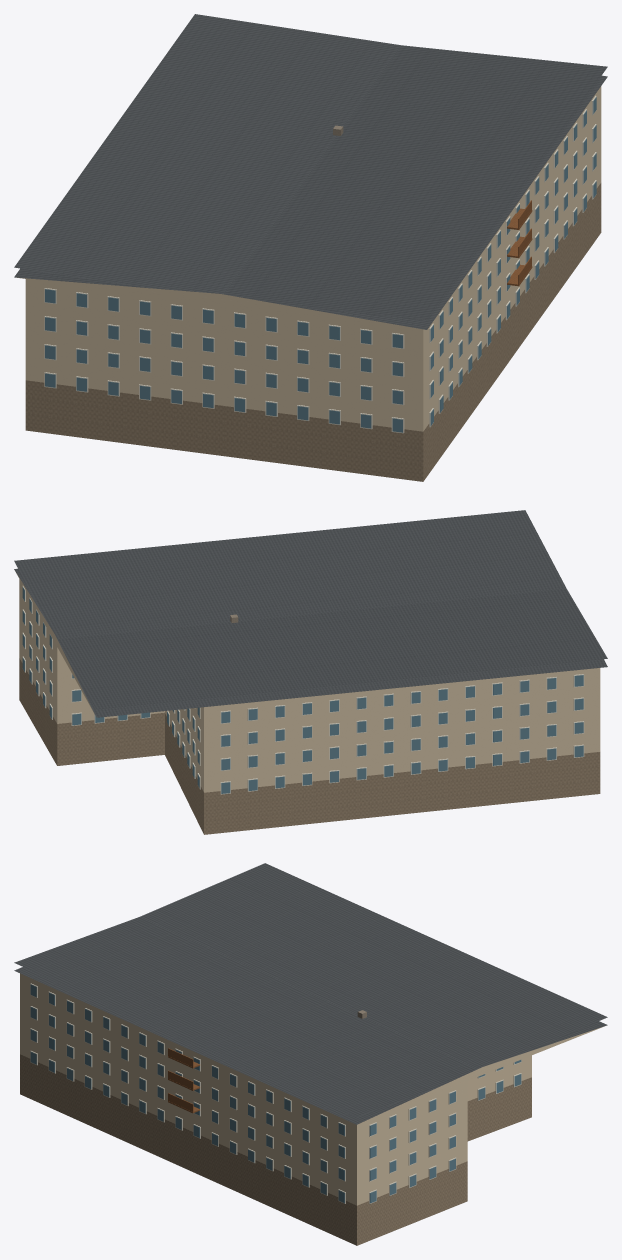
The model's file is core_0022.gltf.
3 renders of one model, top to bottom at view 1: azimuth 30°, elevation 25°; view 2: azimuth 150°, elevation 25°; view 3: azimuth 270°, elevation 25°, orthographic. The views are drawn at different scales.
Parts seen in each view (by area): view 1: core_0022; view 2: core_0022; view 3: core_0022.
Part boxes in pixels (x1,y1,x2,y2): core_0022: (14, 14, 607, 481); core_0022: (14, 510, 607, 834); core_0022: (14, 863, 607, 1245).
Size of the model in its own units: 69.16 by 16.85 by 68.37.
Materials: 7 (7 with a texture image).
